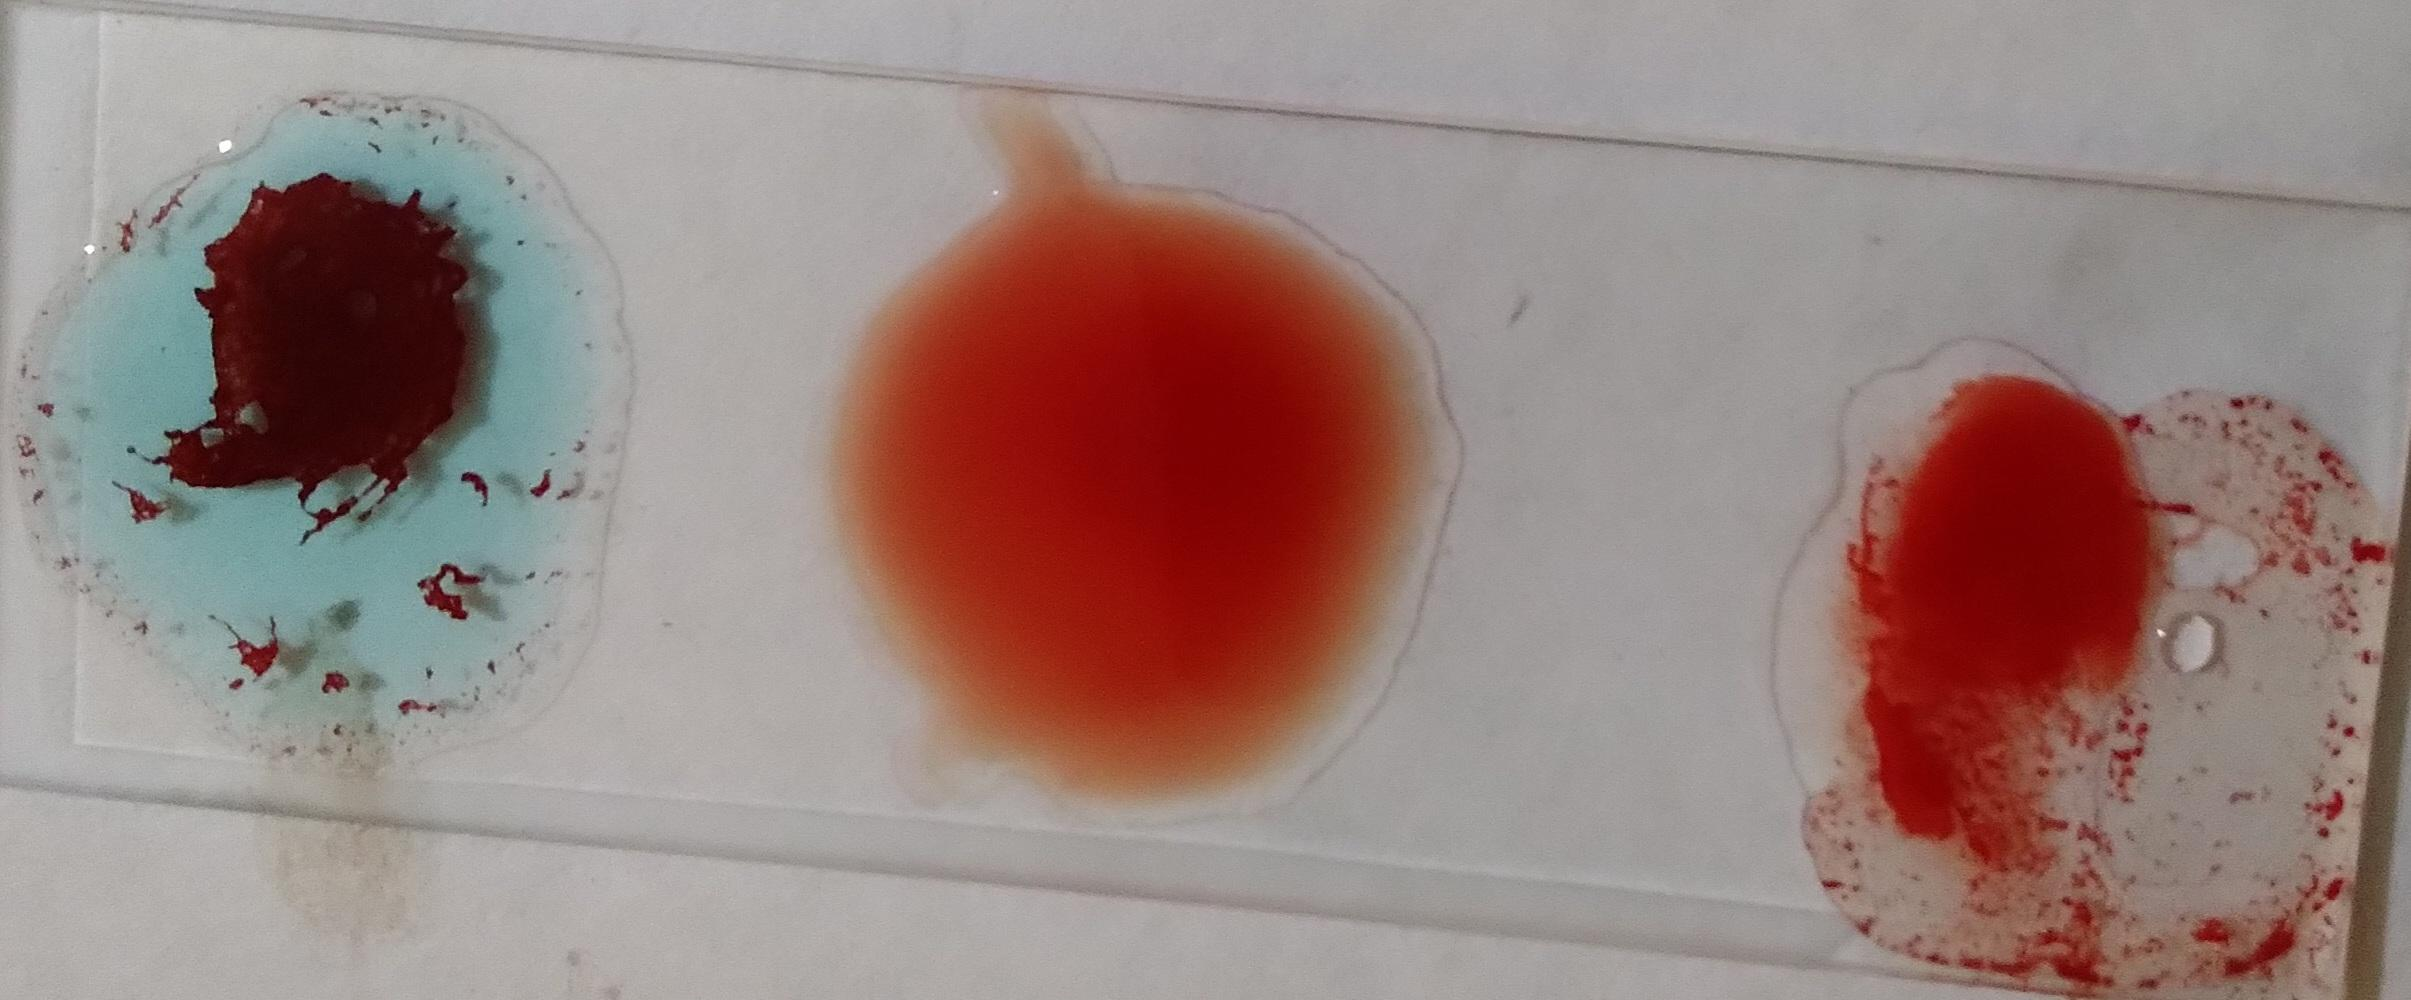A: (32, 86, 621, 740)
D: (1796, 392, 2326, 972)
